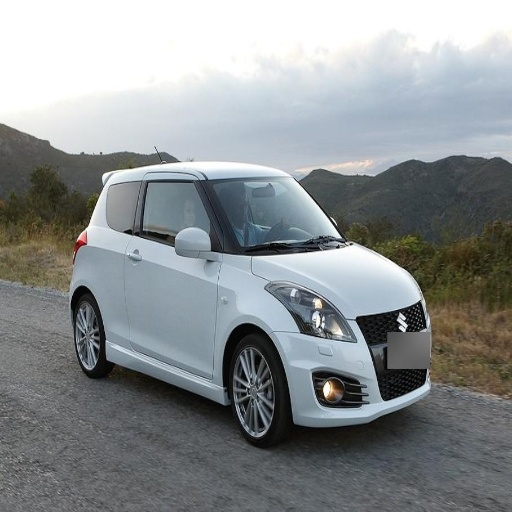back_right_door: (99, 176, 170, 350)
front_bumper: (277, 302, 432, 423)
front_right_door: (127, 180, 221, 380)
front_right_light: (268, 285, 354, 340)
